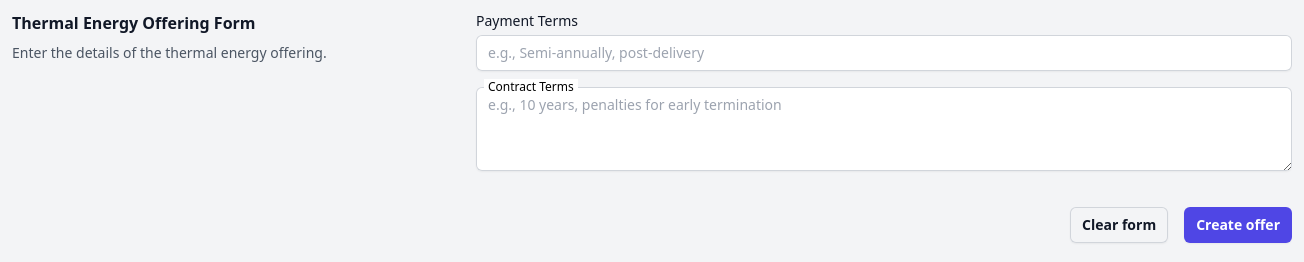
[components]: DynamicForm › should clear the form fields when clicking on Clear button
The width and height of the screenshot is (1304, 262).
In the field with placeholder "e.g., Semi-annually, post-delivery": (884, 53) [476,35,1292,71], type "Semi-annually, post-delivery"
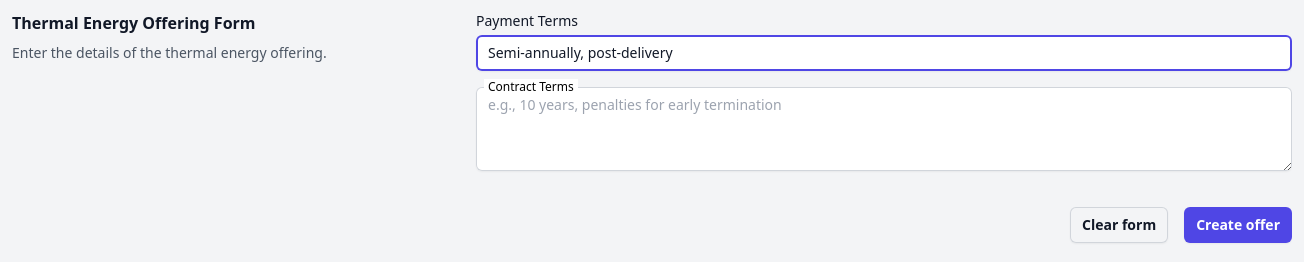
In the text box with placeholder "e.g., 10 years, penalties for early termination": (884, 129) [476,87,1292,171], type "10 years, penalties for early termination"
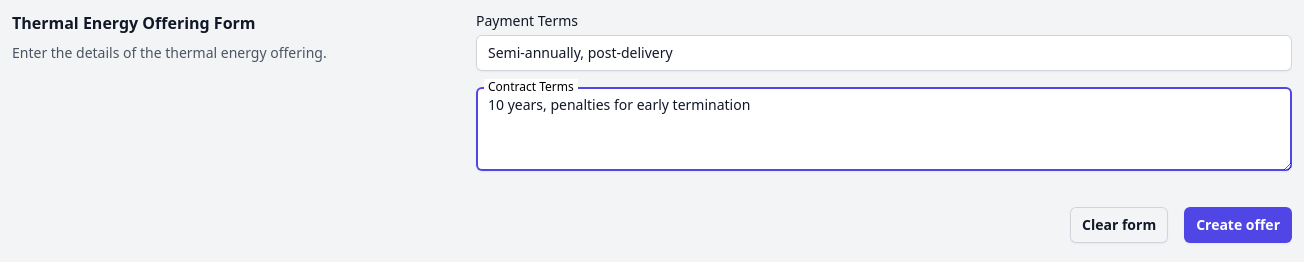
Click the button "Clear form": (1119, 225) [1070,207,1168,243]
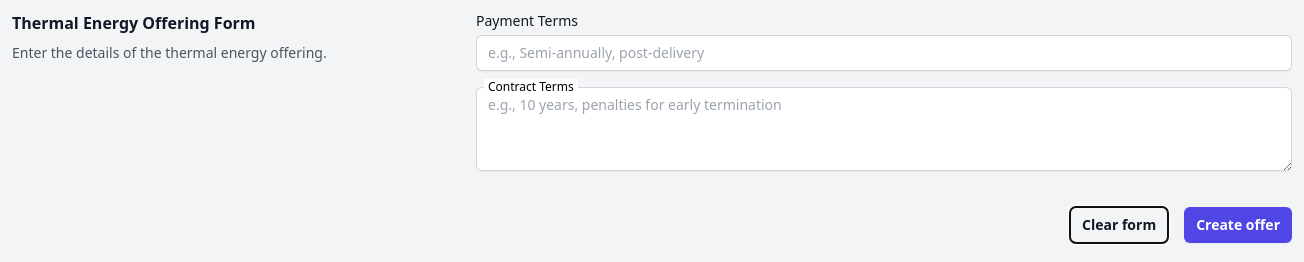
Check: the field with placeholder "e.g., Semi-annually, post-delivery" is empty, box [476,35,1292,71]
Check: the text box with placeholder "e.g., 10 years, penalties for early termination" is empty, box [476,87,1292,171]
